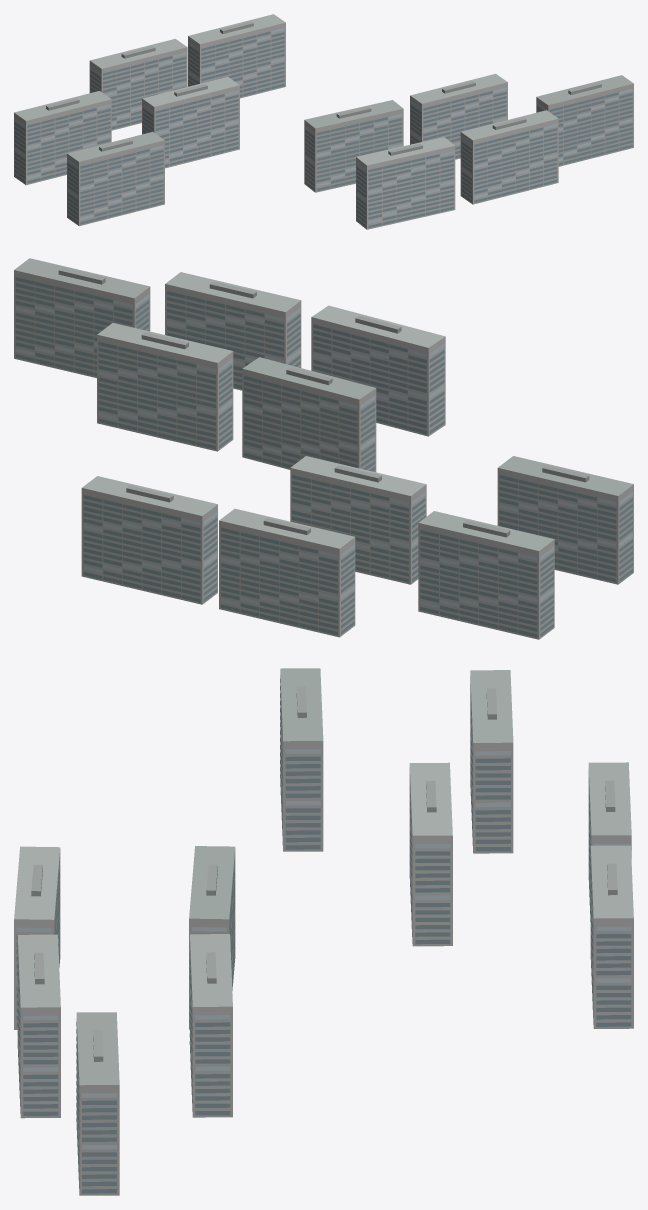
File: apt-a13985909.glb
The picture shows the model from 3 angles, top to bottom: view 1: azimuth 30°, elevation 25°; view 2: azimuth 150°, elevation 25°; view 3: azimuth 270°, elevation 25°; orthographic projection. The views are drawn at different scales.
Parts seen in each view (by area): view 1: apt-a13985909; view 2: apt-a13985909; view 3: apt-a13985909.
Part boxes in pixels (x1=…): apt-a13985909: x1=14, y1=14, x2=633, y2=229; apt-a13985909: x1=14, y1=258, x2=633, y2=639; apt-a13985909: x1=14, y1=668, x2=633, y2=1195.
Size of the model in its own units: 317 by 41 by 199.
